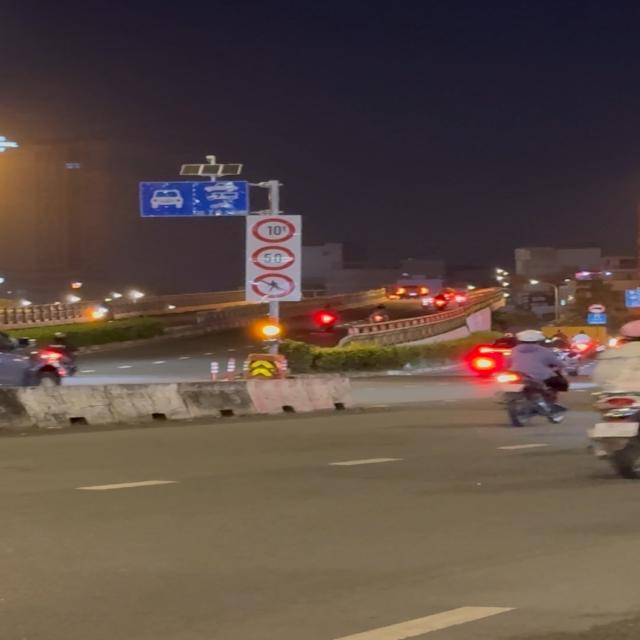Bien bao cam nguoi di bo: (249, 272, 298, 298)
Bien bao toc do toi da cho phep: (250, 245, 296, 273)
